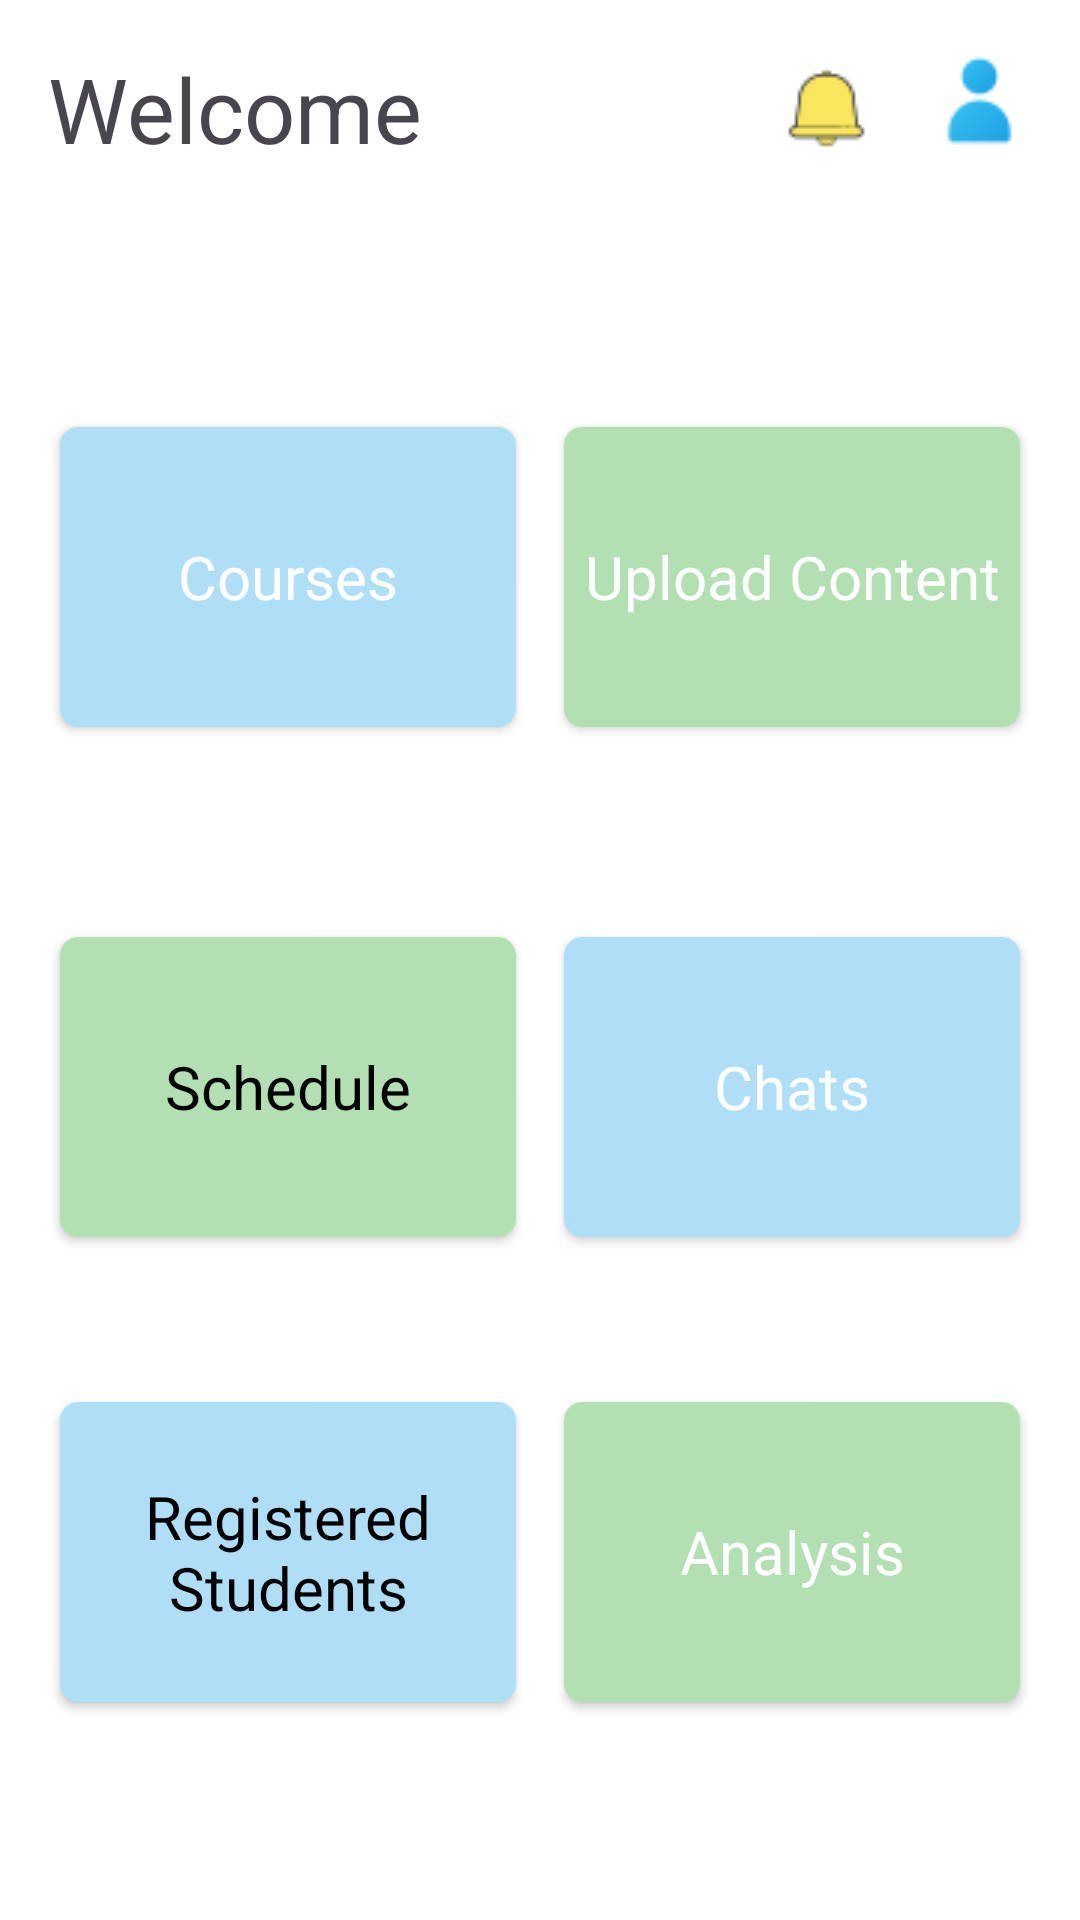

Where to tap for icons on this 1080px x 1920px app screen, as [x,y]:
notification: [826,108]
profile: [979,101]
